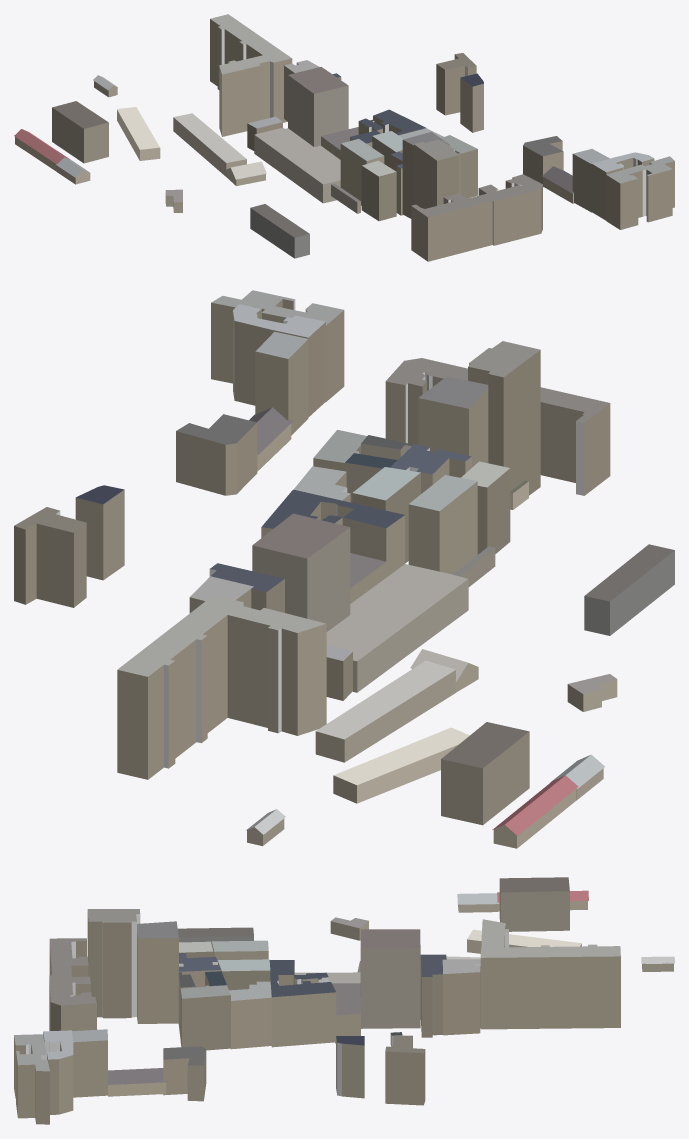
The picture shows the model from 3 angles, top to bottom: view 1: azimuth 30°, elevation 25°; view 2: azimuth 150°, elevation 25°; view 3: azimuth 270°, elevation 25°; orthographic projection. The views are drawn at different scales.
Parts seen in each view (by area): view 1: tuile; view 2: tuile; view 3: tuile.
Boxes of the visible parts, <box> form: tuile: <box>14,14,674,261</box>; tuile: <box>14,290,674,848</box>; tuile: <box>14,877,674,1124</box>.
Bounding box in the file's own units: 212 × 45.05 × 251.
